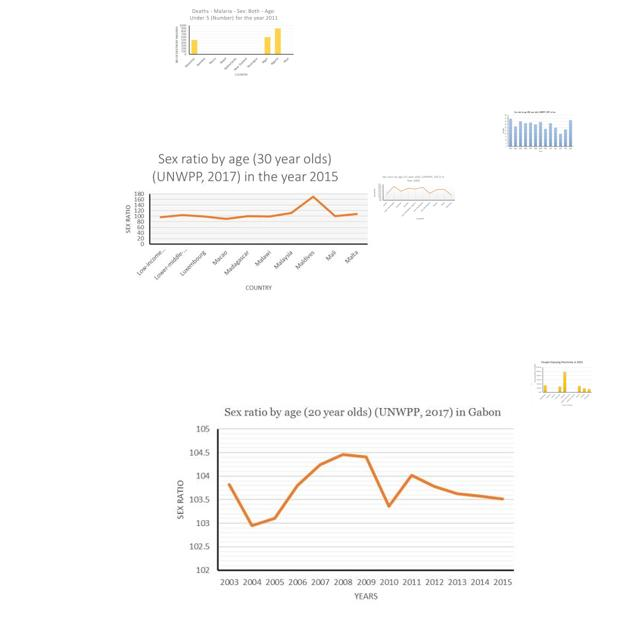Graph: (166, 399, 520, 610), (119, 147, 372, 295), (171, 6, 297, 80), (373, 173, 456, 221), (501, 110, 574, 153), (531, 360, 593, 408)
